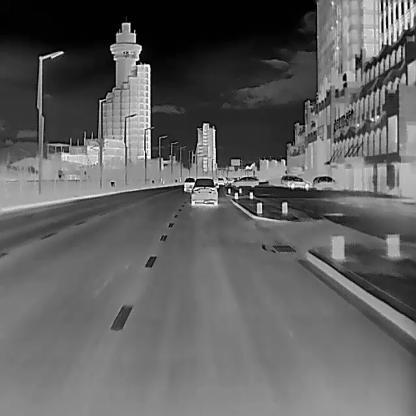car: (190, 177, 217, 206), (313, 173, 336, 190), (283, 177, 309, 190), (232, 175, 258, 186), (280, 174, 298, 186), (184, 176, 195, 192)
